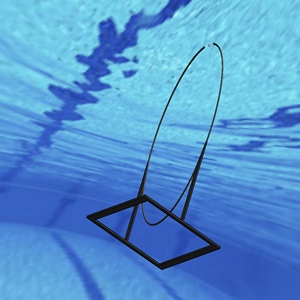circle: (85, 39, 225, 269)
